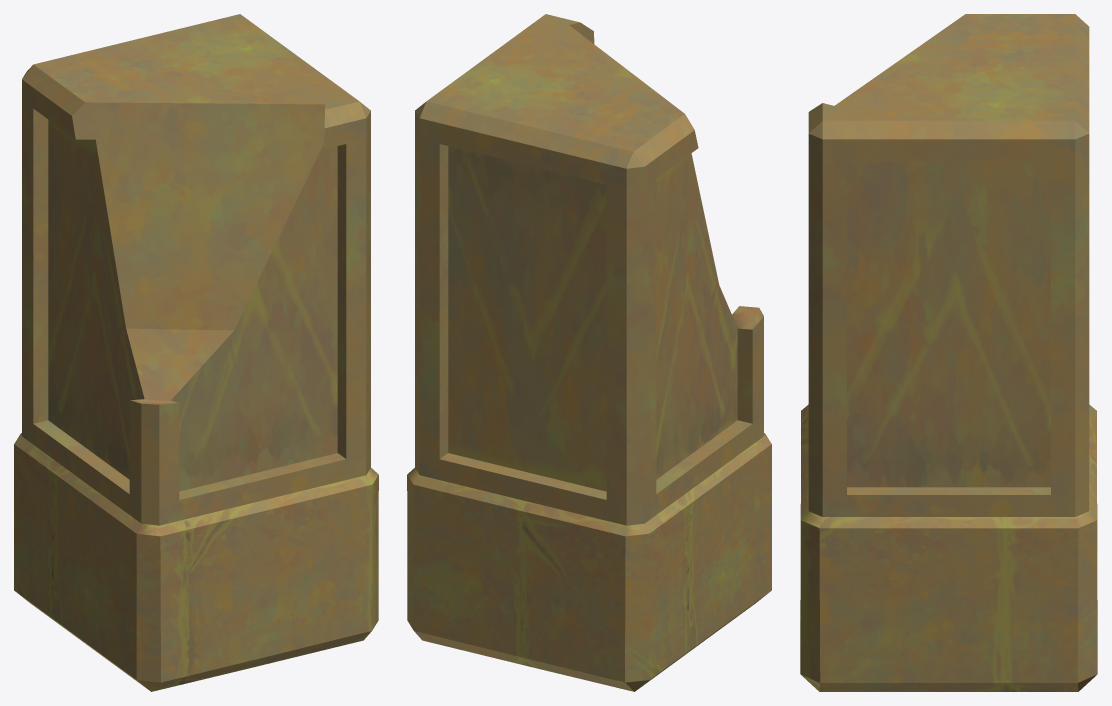
Rendered from Pillar.fbx.
3 views of the same model, side by side, from view 1: azimuth 30°, elevation 25°; view 2: azimuth 150°, elevation 25°; view 3: azimuth 270°, elevation 25° (orthographic). The views are drawn at different scales.
Visible parts, largest first — view 1: pCube23; view 2: pCube23; view 3: pCube23.
Boxes of the visible parts, bbox=[...] form: pCube23: bbox=[14, 14, 378, 691]; pCube23: bbox=[407, 14, 771, 691]; pCube23: bbox=[800, 14, 1097, 691].
Size of the model in its own units: 105 by 222 by 105.
Materials: 1 (1 with a texture image).
